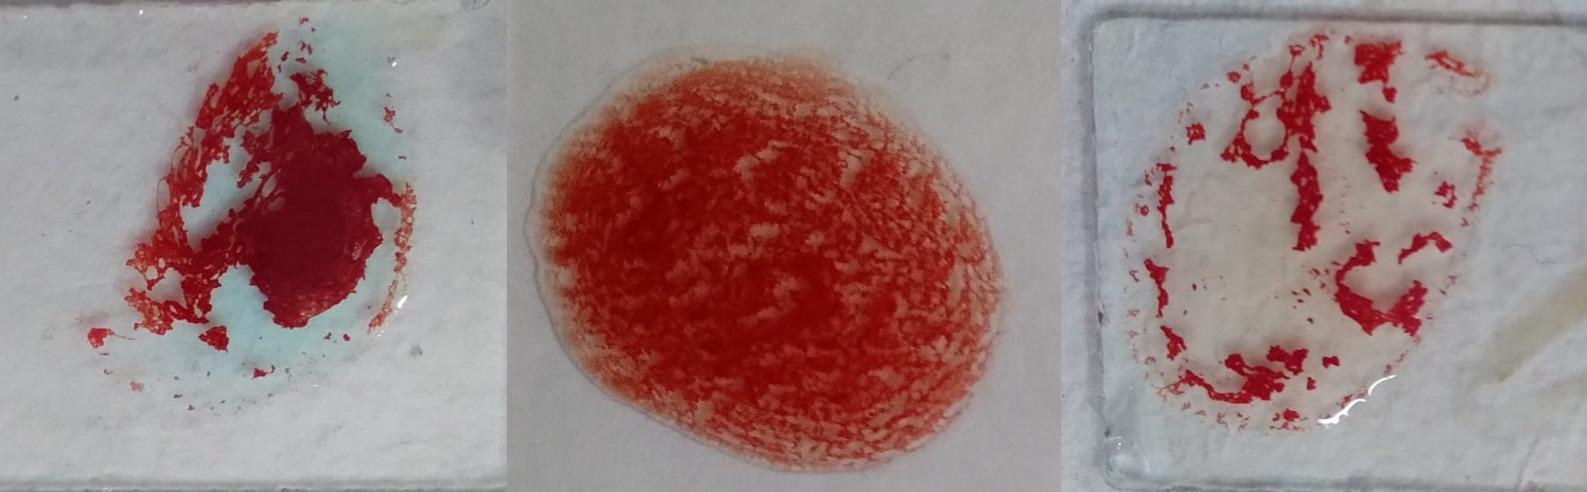A: (115, 11, 406, 414)
B: (538, 49, 990, 463)
D: (1124, 21, 1485, 433)
